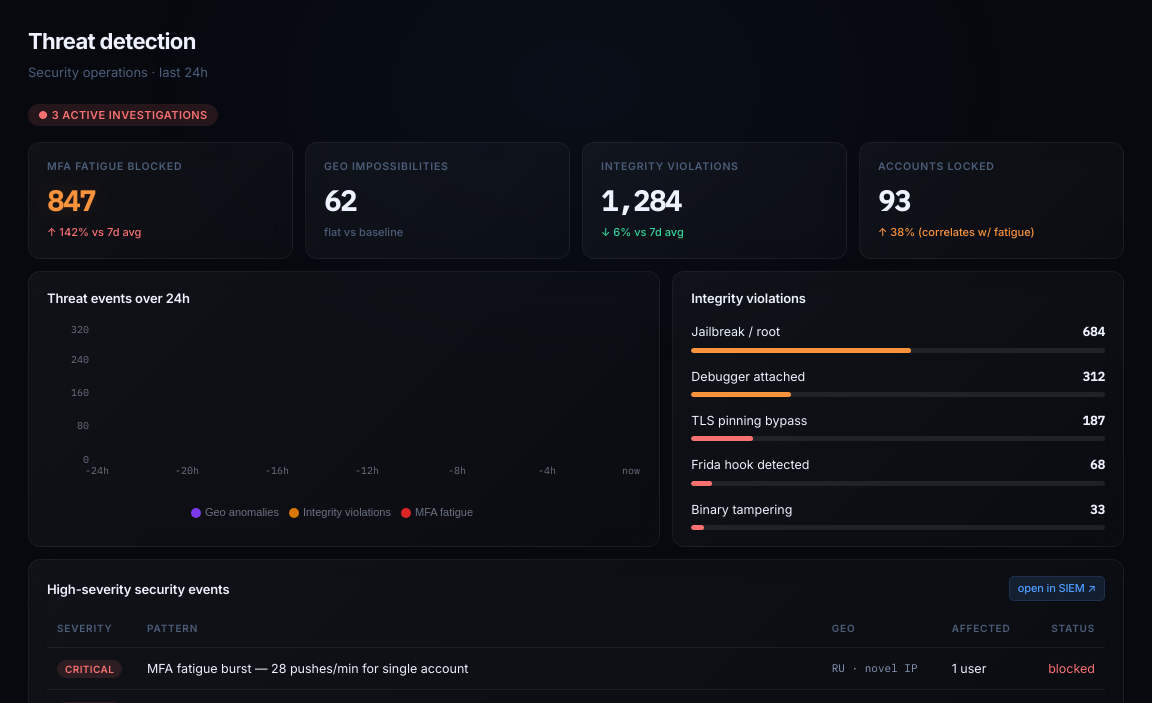
Test case: SecurityDashboard — severity filter › shows "✕ clear" in header when a severity is selected
Expected: the text "clear" is not shown
Click the button "critical" in the row of "RU · novel IP" at (90, 669), box [57,660,122,678]
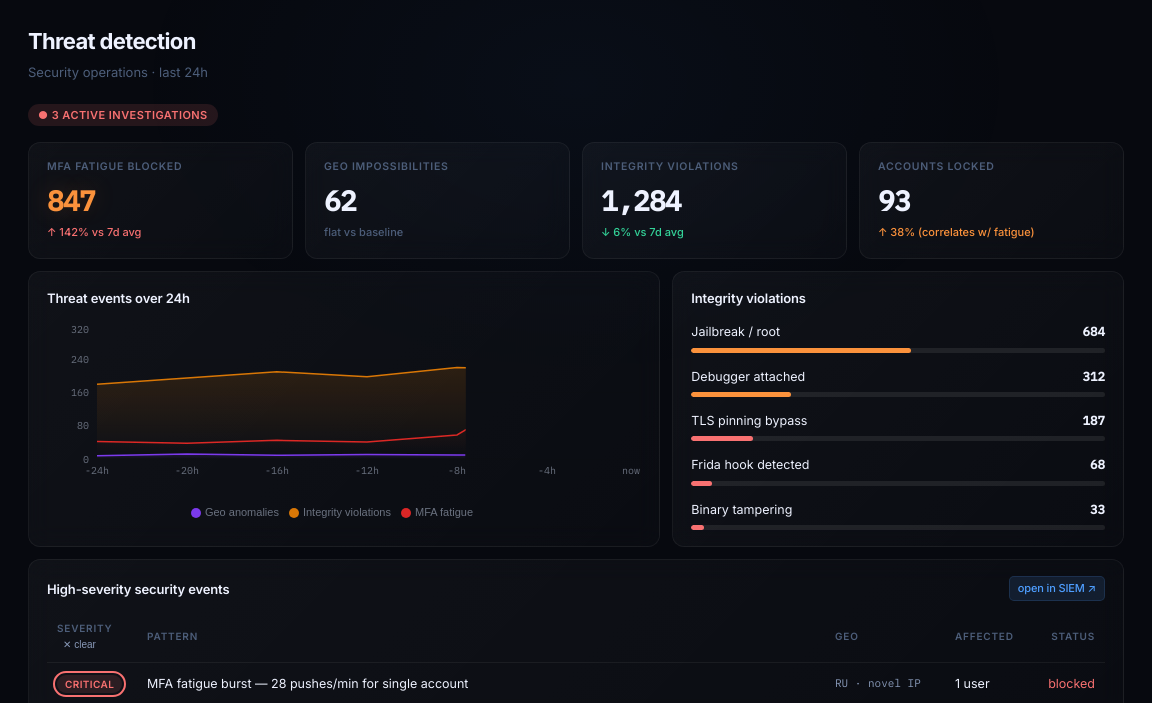
Expected: the button "✕ clear" is shown, [63,639,96,650]
